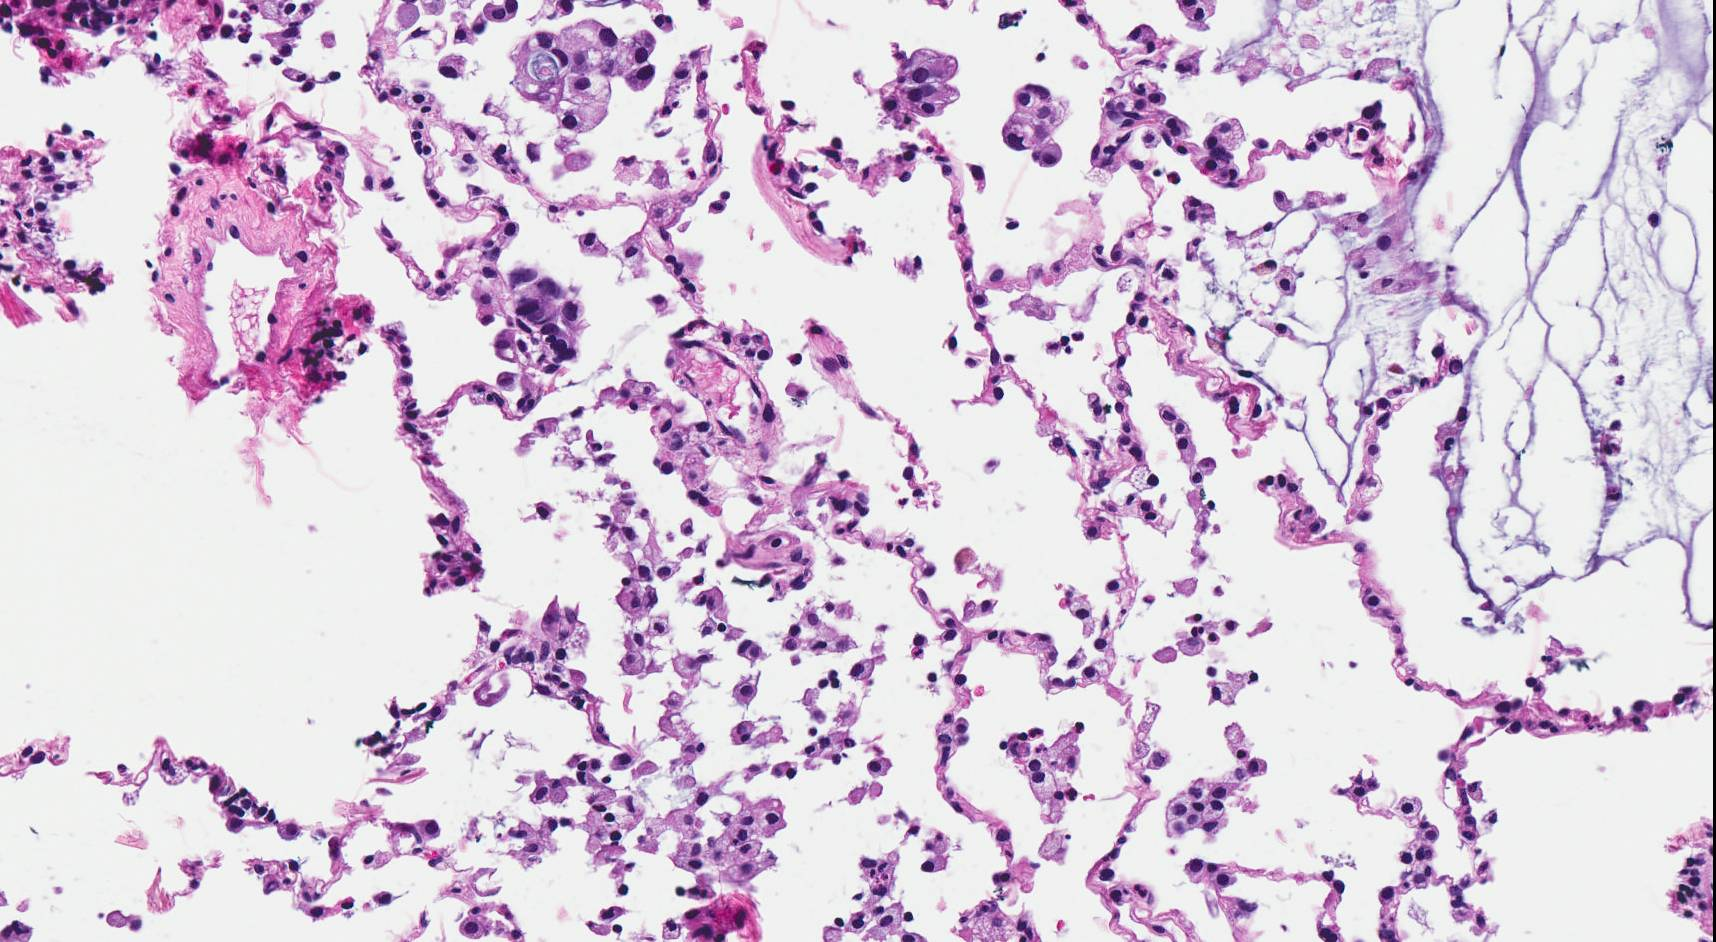stas: (508, 18, 660, 131), (877, 44, 971, 134), (505, 258, 589, 355), (1000, 78, 1065, 172)
